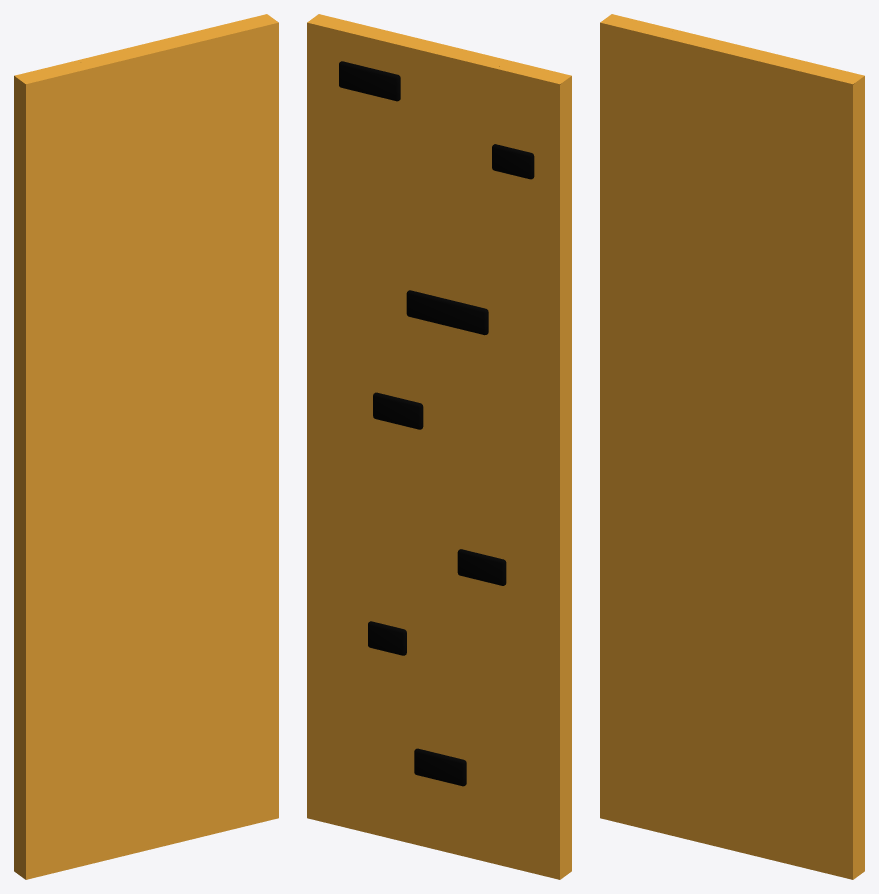
File: Wall H 10.fbx
3 renders of one model, left to right at view 1: azimuth 30°, elevation 25°; view 2: azimuth 150°, elevation 25°; view 3: azimuth 330°, elevation 25°, orthographic.
Parts seen in each view (by area): view 1: Wall H 10; view 2: Wall H 10; view 3: Wall H 10.
Part boxes in pixels (box(x1,y1,x2,y2)): Wall H 10: box(14, 14, 278, 879); Wall H 10: box(307, 14, 571, 879); Wall H 10: box(600, 14, 864, 879).
Bounding box in the file's own units: 249 × 747 × 23.72.
1 material, 1 textured.
